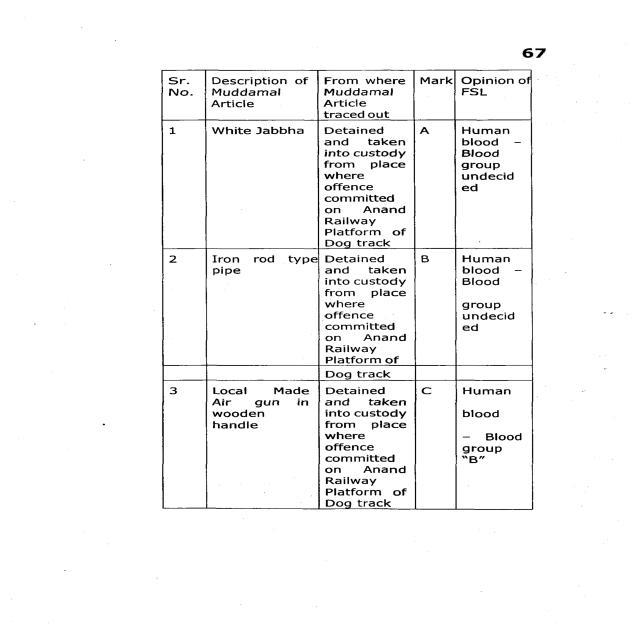page-number: (428, 1, 640, 64)
